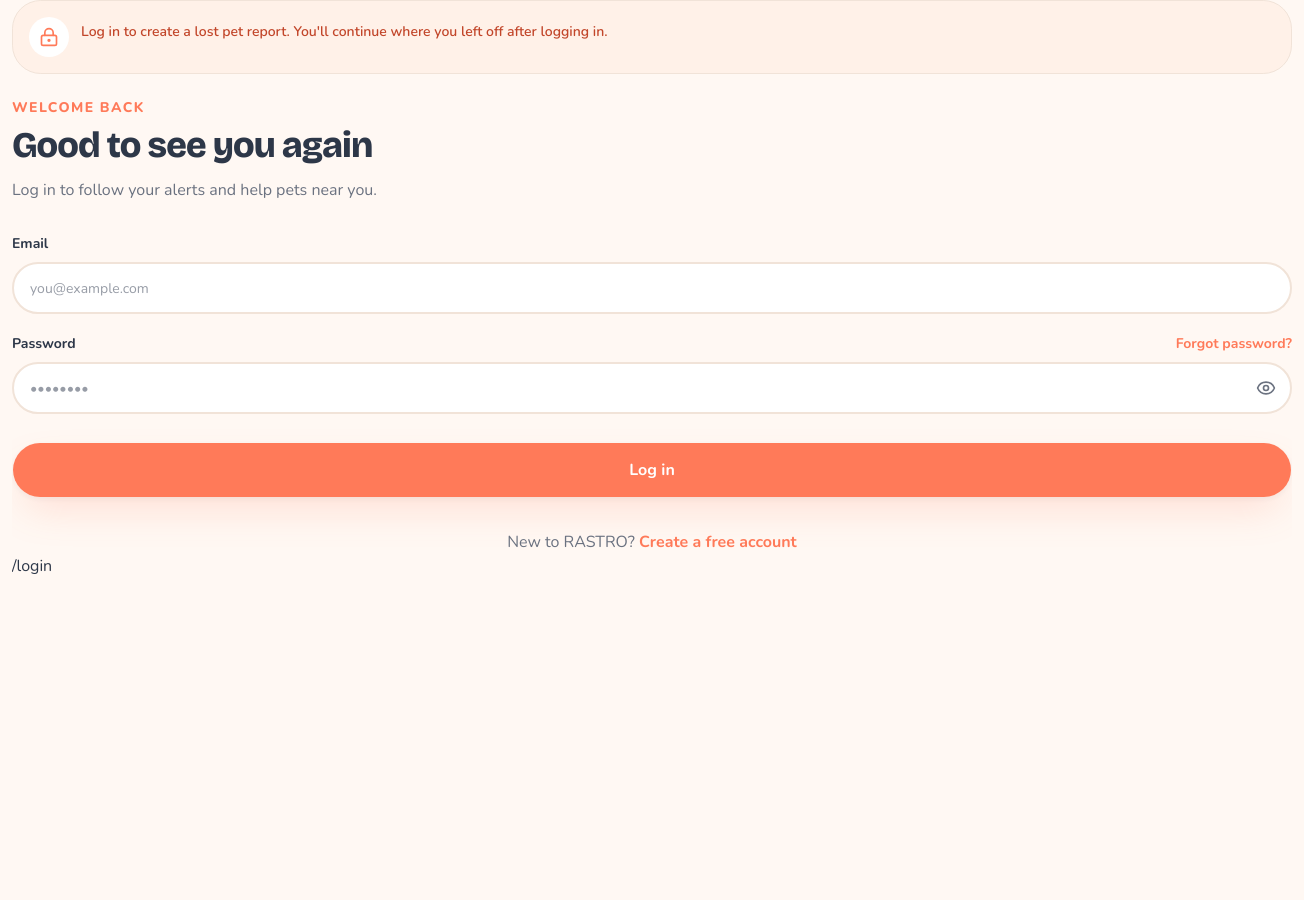
Test case: LoginPage return navigation › keeps the pending destination after a failed login
Step 1. Type "person@example.com" into the field labelled "Email" → coordinates (652, 288), box [12,262,1292,314]
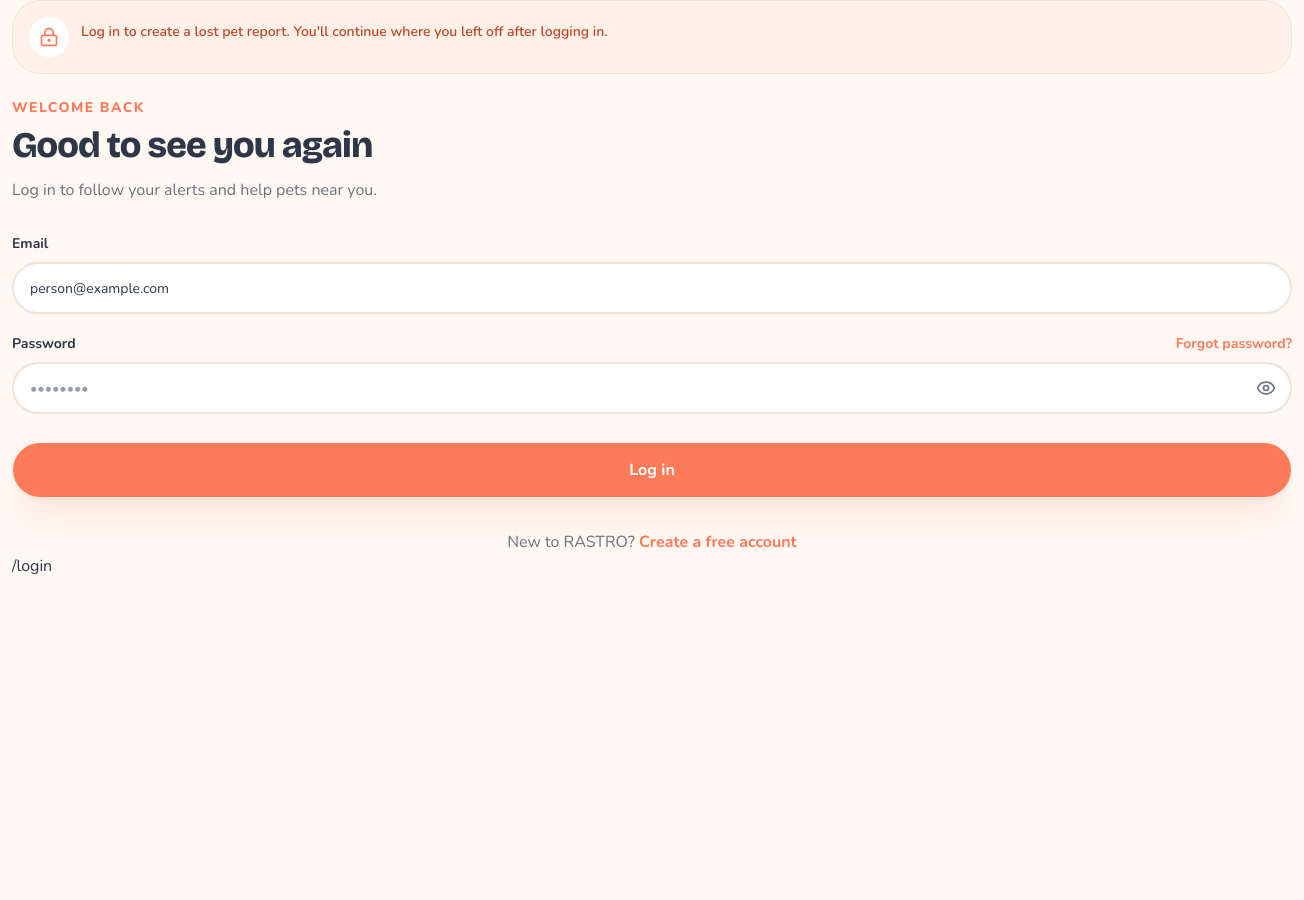
Step 2. Type "password" into the password field labelled "Password" → coordinates (652, 388), box [12,362,1292,414]
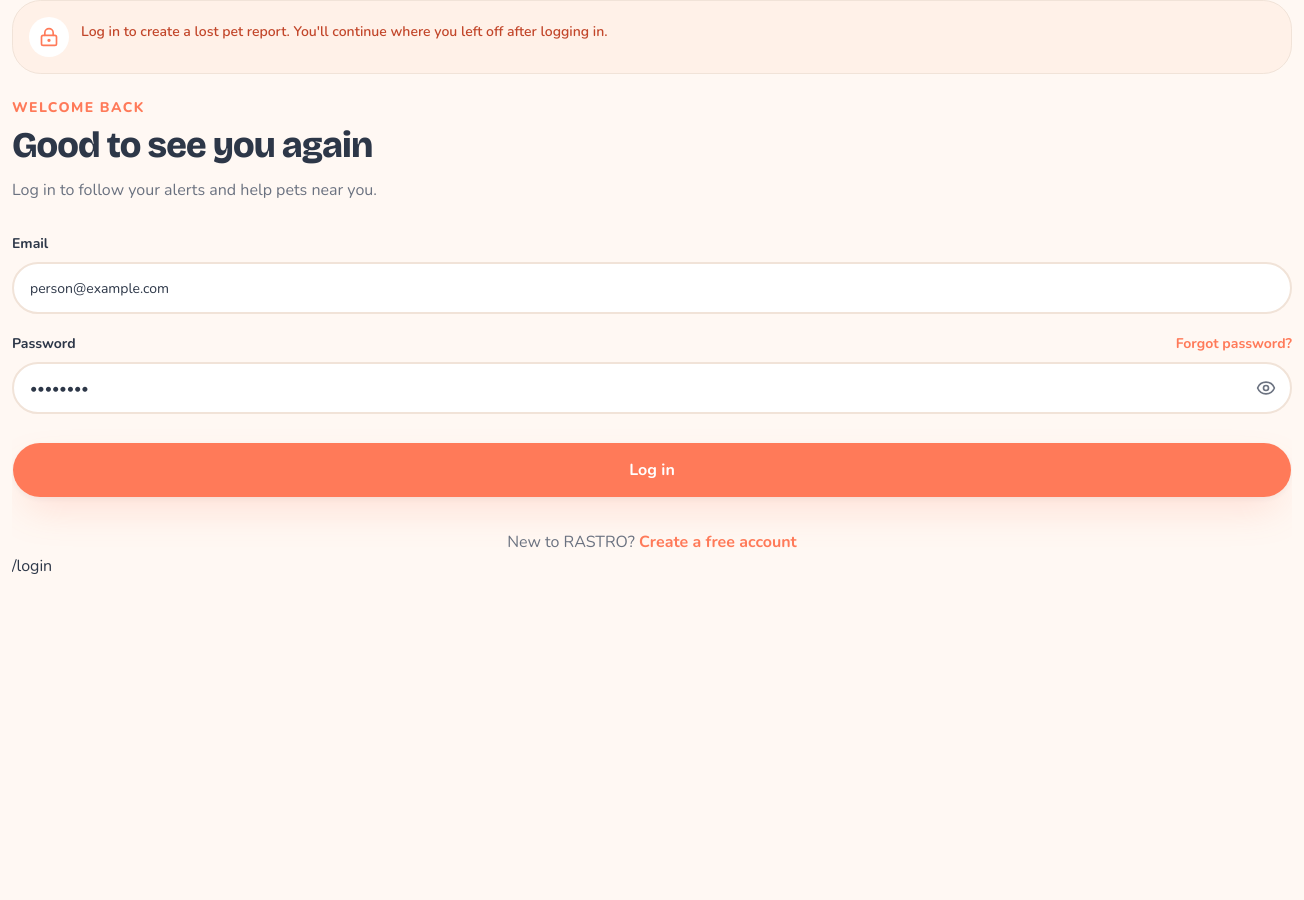
Step 3. Submit the form, box [12,234,1292,498]
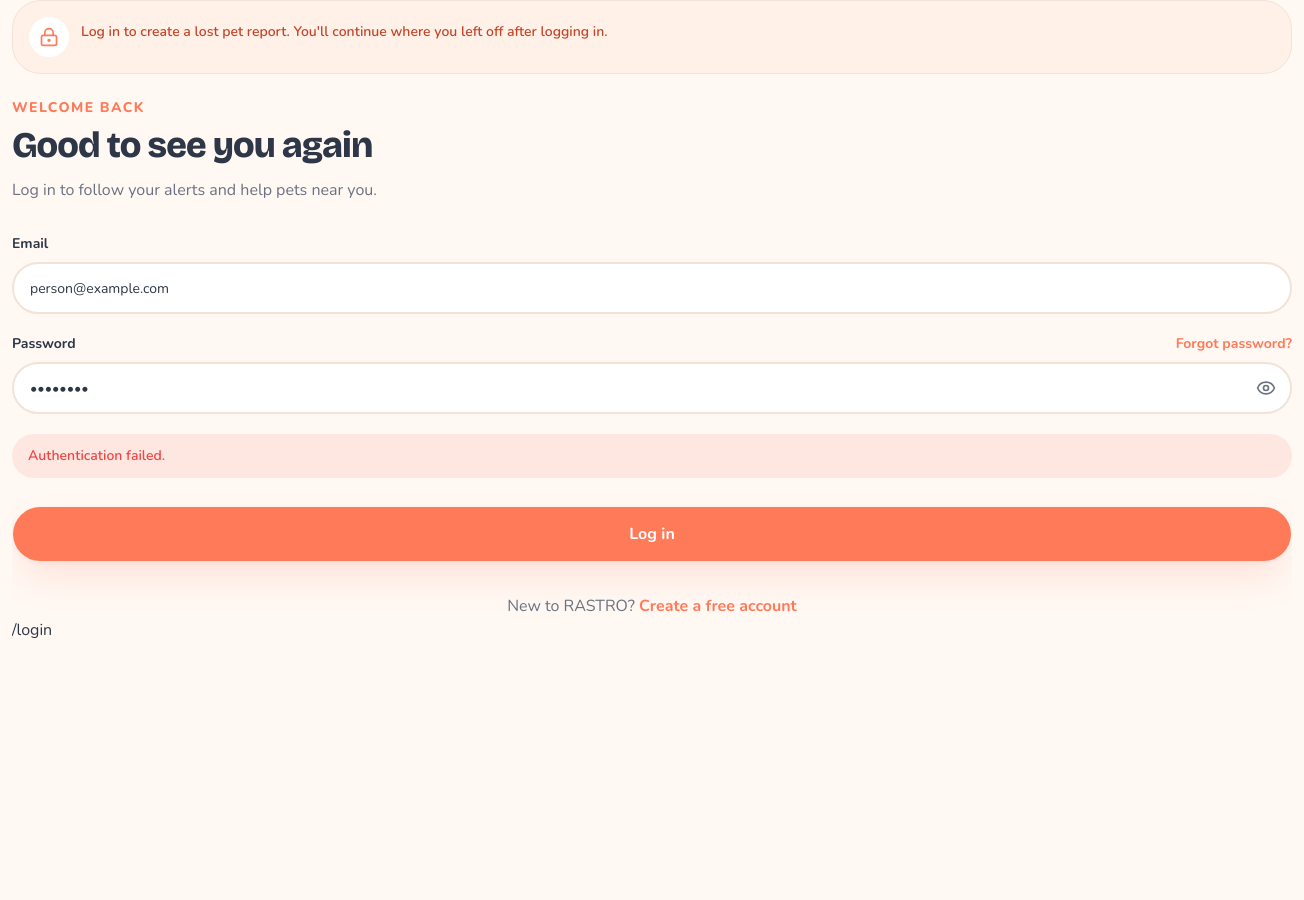
Expected: the text with test id "current-path" reads "/login", [12,619,52,641]
Now the message reads "Authentication failed.", box [28,446,165,465]
